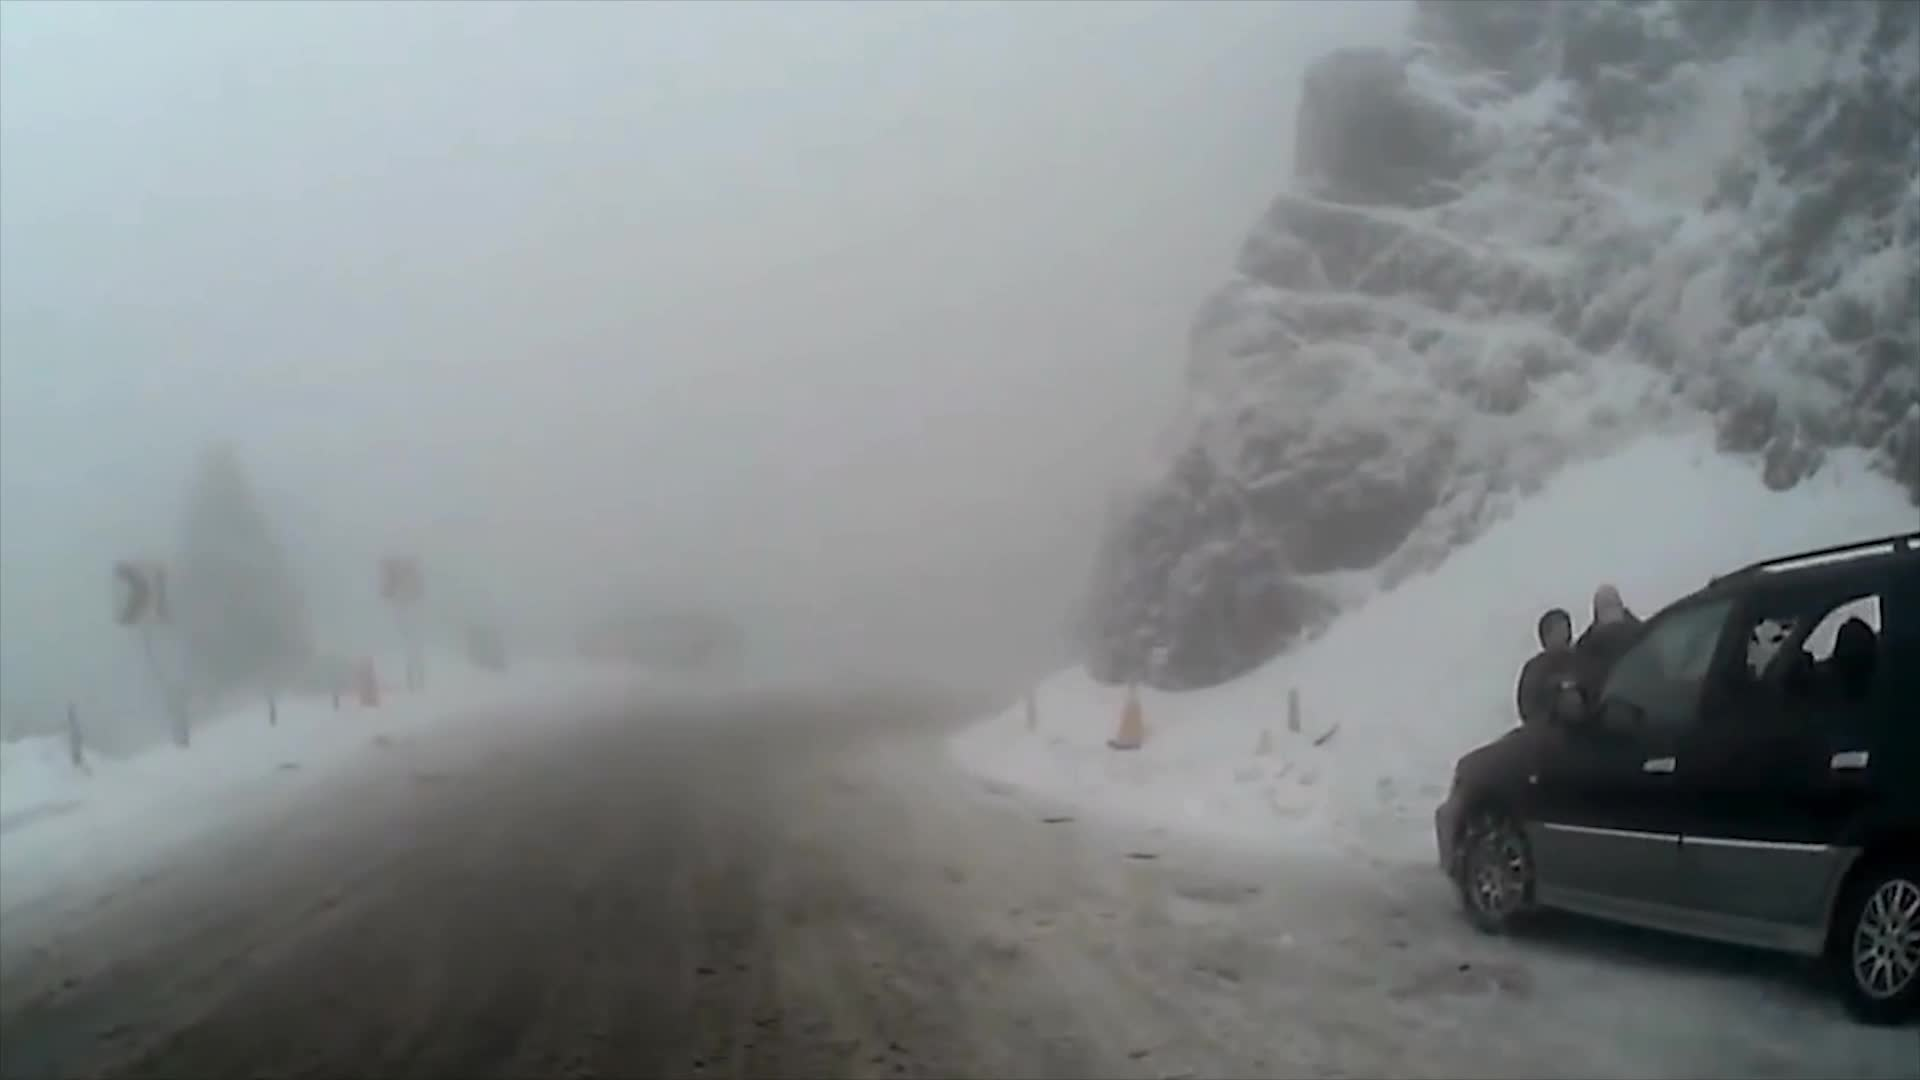pedestrian: (1516, 603, 1599, 889), (1584, 585, 1670, 850)
vehicle: (1430, 527, 1920, 1024)
